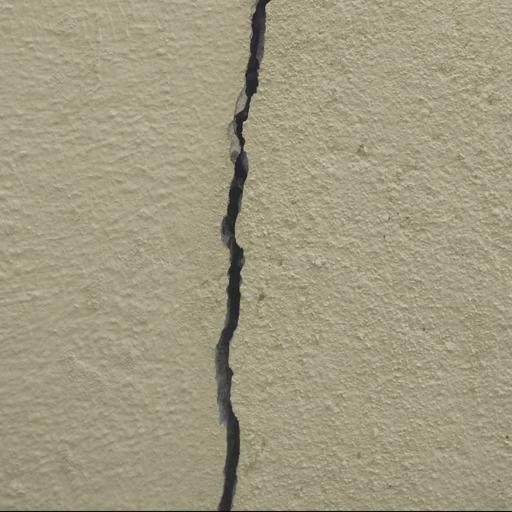major_crack: (207, 0, 289, 512)
